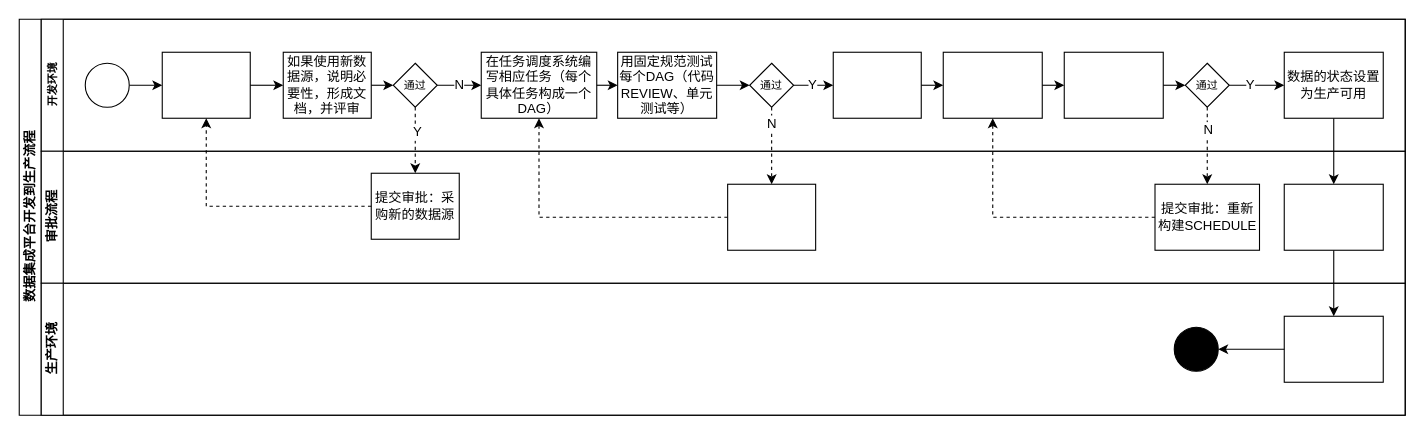
This 1425x435 diagram has some shape labels left out. Here are the shapes that lost their labels. From the top down, the centre of each, then its label:
At (205,84): "从采购列表的数据源拉取数据".
At (876,84): "DAG状态设置为生产可用状态".
At (992,84): "按照计划执行DAG，形成一个SCHEDULE，生成可用的数据".
At (1113,84): "开发升级到生产的数据测试".
At (771,216): "提交审批：重新构建DAG".
At (1333,216): "提交审批：数据从开发升级到生产".
At (1333,348): "状态为生产可用的开发环境数据，同步到生产环境".
